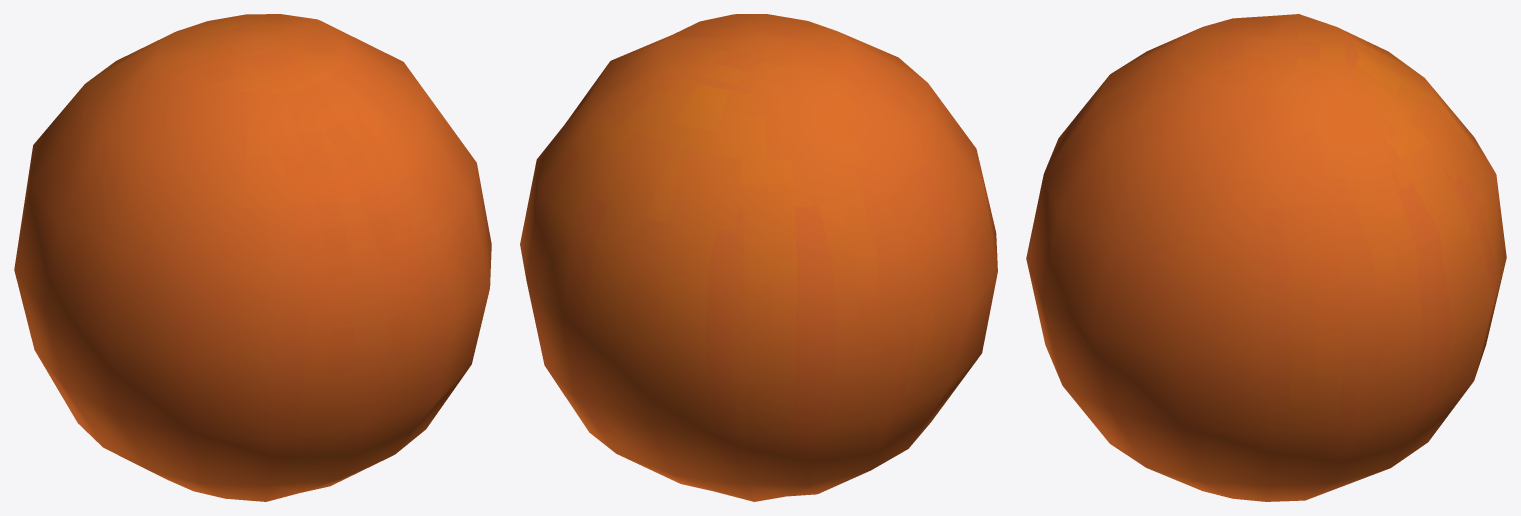
The model's file is BBall.glb.
The picture shows the model from 3 angles, left to right: view 1: azimuth 30°, elevation 25°; view 2: azimuth 150°, elevation 25°; view 3: azimuth 270°, elevation 25°; orthographic projection.
Visible parts, largest first — view 1: Sphere; view 2: Sphere; view 3: Sphere.
Part boxes in pixels (box(x1,y1,x2,y2)): Sphere: box(14, 14, 491, 501); Sphere: box(520, 14, 997, 501); Sphere: box(1026, 14, 1506, 501).
Size of the model in its own units: 3.9 by 3.9 by 3.9.
Materials: 1 (1 with a texture image).
